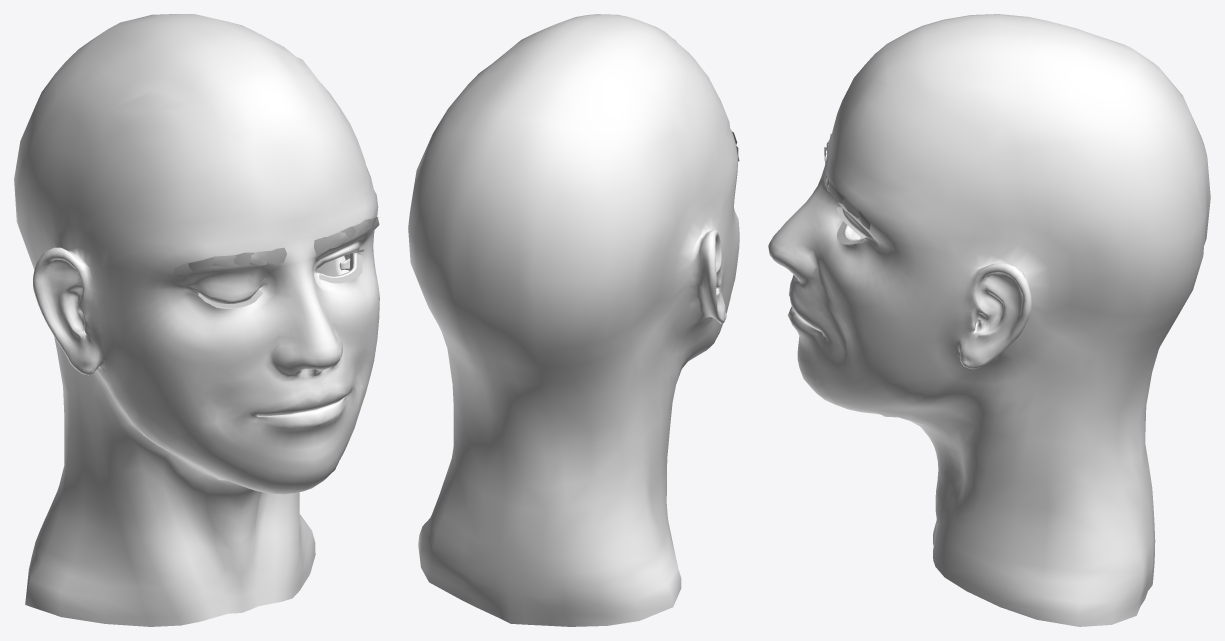
The model's file is eyeBlinkRight.obj.
3 views of the same model, side by side, from view 1: azimuth 30°, elevation 25°; view 2: azimuth 150°, elevation 25°; view 3: azimuth 270°, elevation 25° (orthographic). The views are drawn at different scales.
Visible parts, largest first — view 1: FaceMesh_Plane.003; view 2: FaceMesh_Plane.003; view 3: FaceMesh_Plane.003.
Boxes of the visible parts, x1=… form: FaceMesh_Plane.003: x1=14, y1=14, x2=379, y2=626; FaceMesh_Plane.003: x1=408, y1=14, x2=739, y2=626; FaceMesh_Plane.003: x1=768, y1=14, x2=1210, y2=626.
Bounding box in the file's own units: 1.54 × 2.71 × 1.94.
Materials: 5 (1 with a texture image).
